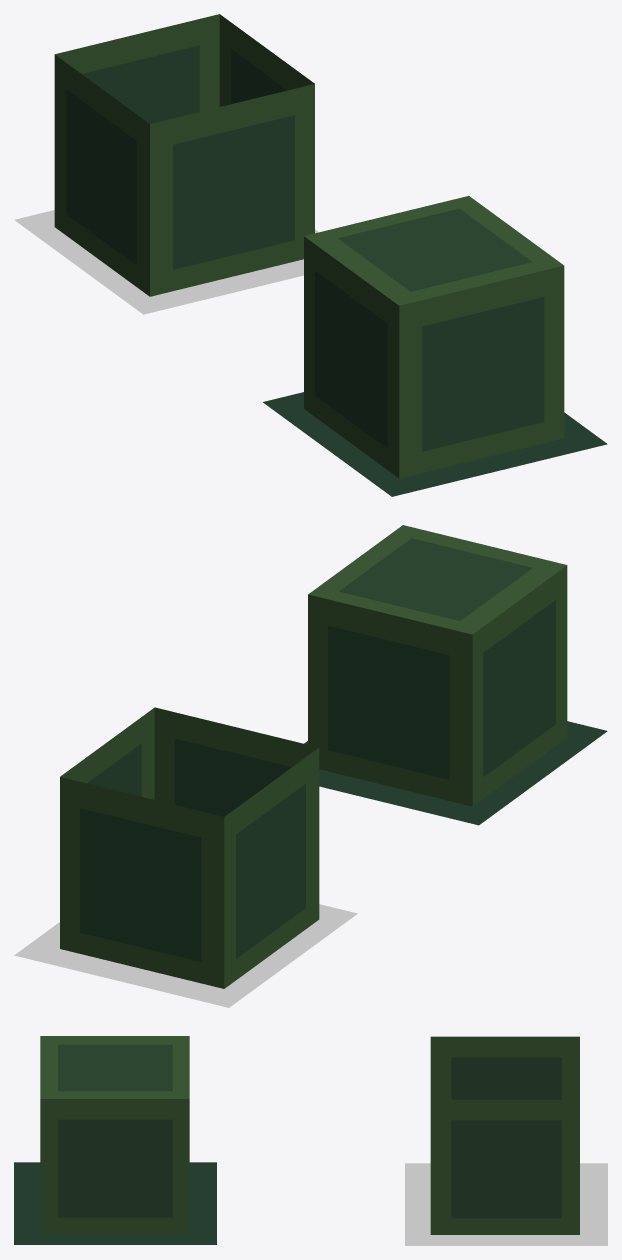
Rendered from crate.fbx.
The picture shows the model from 3 angles, top to bottom: view 1: azimuth 30°, elevation 25°; view 2: azimuth 150°, elevation 25°; view 3: azimuth 270°, elevation 25°; orthographic projection. The views are drawn at different scales.
Parts seen in each view (by area): view 1: Mesh_Crate, Mesh_CrateBreakSide04, Mesh_CrateBreakSide01, Mesh_CrateBreakSide02, Mesh_CrateBreakBottom, Mesh_CrateBreakSide03; view 2: Mesh_Crate, Mesh_CrateBreakSide02, Mesh_CrateBreakSide01, Mesh_CrateBreakSide04, Mesh_CrateBreakBottom, Mesh_CrateBreakSide03; view 3: Mesh_Crate, Mesh_CrateBreakSide03, Mesh_CrateBreakSide01, Mesh_CrateBreakBottom.
Part boxes in pixels (x1=…): Mesh_Crate: x1=263, y1=196, x2=607, y2=496; Mesh_CrateBreakSide04: x1=150, y1=84, x2=314, y2=296; Mesh_CrateBreakSide01: x1=54, y1=54, x2=149, y2=296; Mesh_CrateBreakSide02: x1=55, y1=14, x2=219, y2=123; Mesh_CrateBreakBottom: x1=14, y1=210, x2=318, y2=314; Mesh_CrateBreakSide03: x1=219, y1=14, x2=314, y2=106; Mesh_Crate: x1=304, y1=525, x2=607, y2=825; Mesh_CrateBreakSide02: x1=60, y1=777, x2=224, y2=988; Mesh_CrateBreakSide01: x1=224, y1=748, x2=319, y2=988; Mesh_CrateBreakSide04: x1=154, y1=707, x2=318, y2=816; Mesh_CrateBreakBottom: x1=14, y1=904, x2=357, y2=1007; Mesh_CrateBreakSide03: x1=60, y1=708, x2=154, y2=799; Mesh_Crate: x1=14, y1=1036, x2=216, y2=1244; Mesh_CrateBreakSide03: x1=430, y1=1099, x2=579, y2=1234; Mesh_CrateBreakSide01: x1=430, y1=1036, x2=579, y2=1099; Mesh_CrateBreakBottom: x1=405, y1=1163, x2=607, y2=1245.
Bounding box in the file's own units: 1.46 × 4.4 × 1.11.
